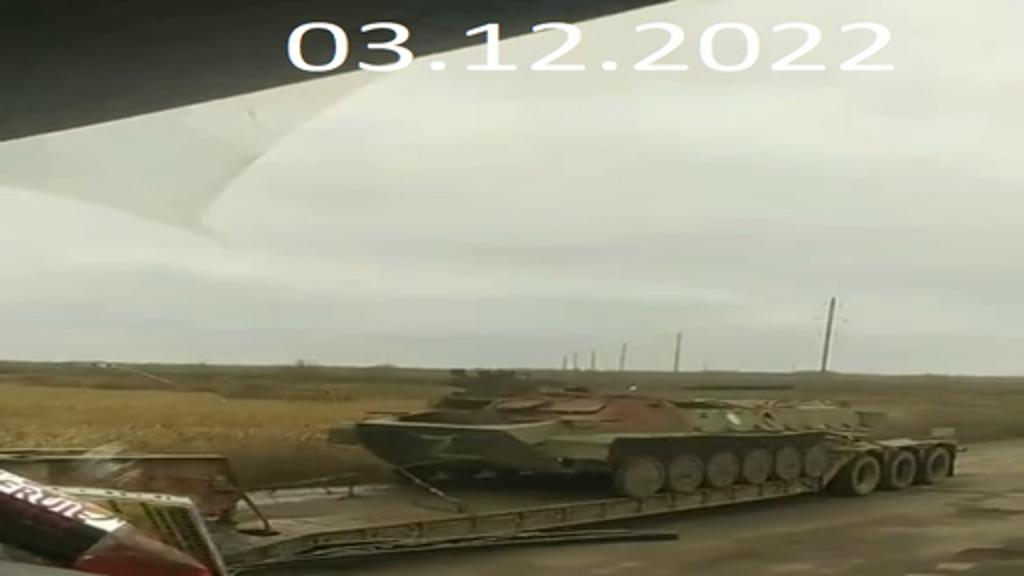APC-IFV: (346, 354, 854, 518)
